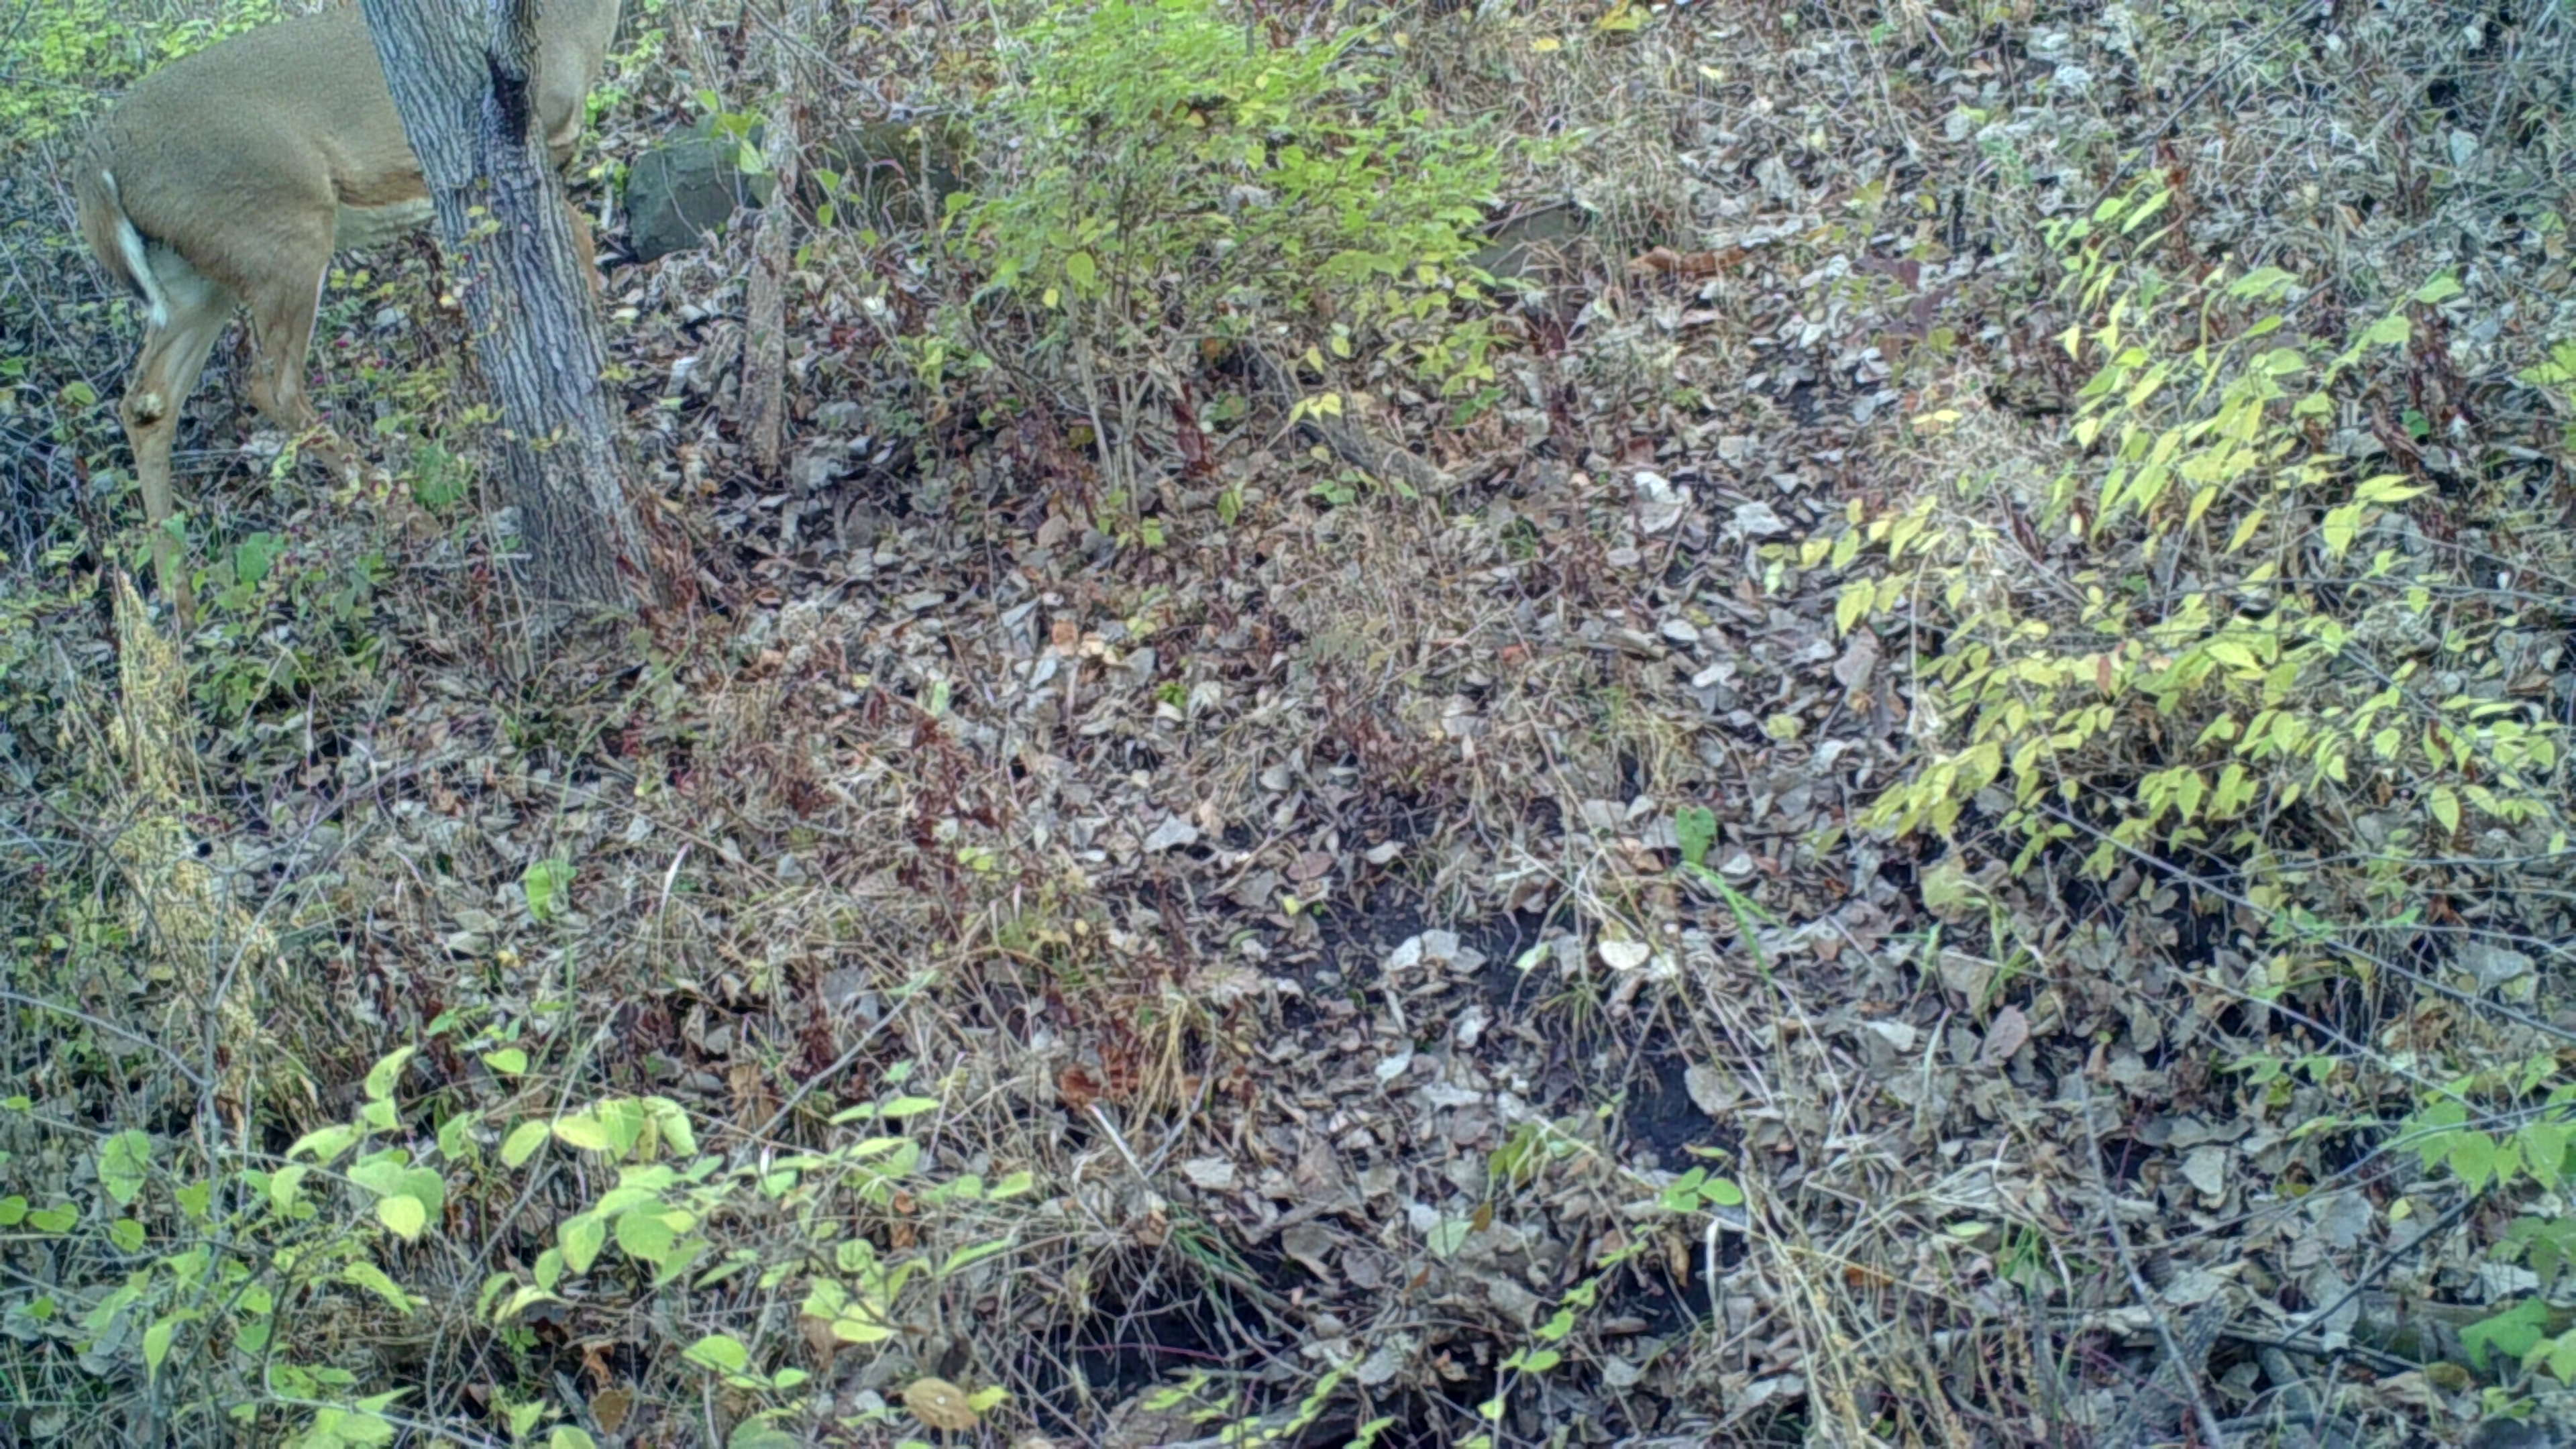Deer: (73, 0, 635, 563)
